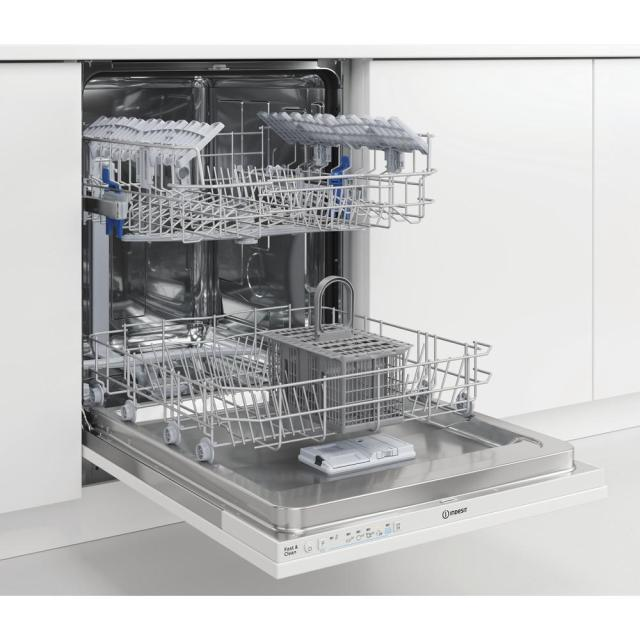dishwasher: (80, 58, 611, 584)
